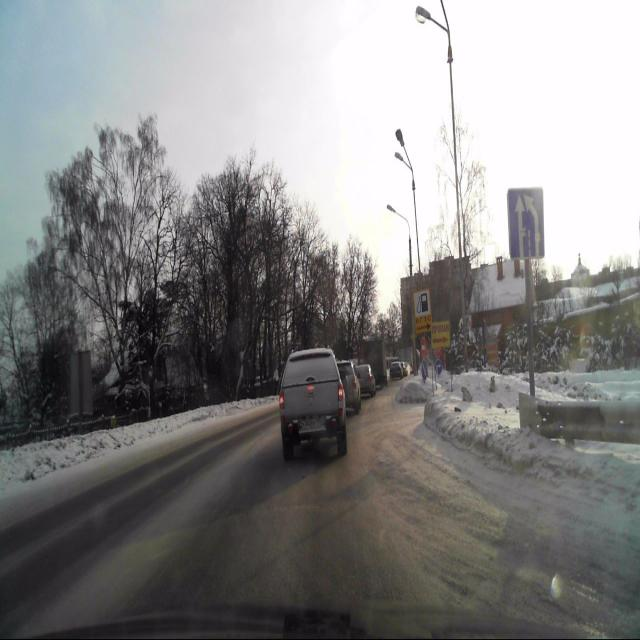road sign: (507, 187, 544, 259)
